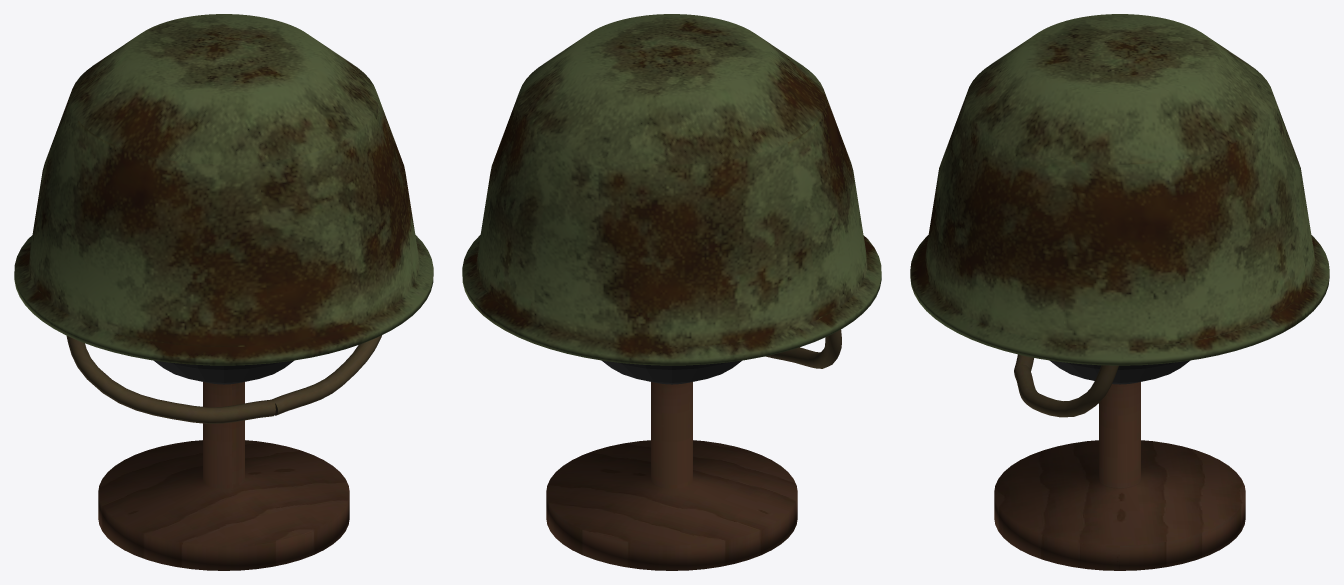
Rendered from field-olive.glb.
The picture shows the model from 3 angles, left to right: view 1: azimuth 30°, elevation 25°; view 2: azimuth 150°, elevation 25°; view 3: azimuth 270°, elevation 25°; orthographic projection.
Parts seen in each view (by area): view 1: paint_primary_helmet, wood_z, strap, form_black; view 2: paint_primary_helmet, wood_z, form_black, strap; view 3: paint_primary_helmet, wood_z, strap, form_black.
Boxes of the visible parts, box(x1,y1,x2,y2) form: paint_primary_helmet: box(14, 14, 433, 365); wood_z: box(98, 382, 349, 570); strap: box(66, 335, 381, 423); form_black: box(153, 360, 294, 384); paint_primary_helmet: box(462, 14, 881, 365); wood_z: box(546, 382, 797, 570); form_black: box(601, 360, 742, 384); strap: box(765, 329, 841, 368); paint_primary_helmet: box(910, 14, 1329, 365); wood_z: box(994, 382, 1245, 570); strap: box(1014, 354, 1118, 417); form_black: box(1049, 360, 1190, 384).
Bounding box in the file's own units: 0.3 × 0.37 × 0.3.
4 materials, 3 textured.
